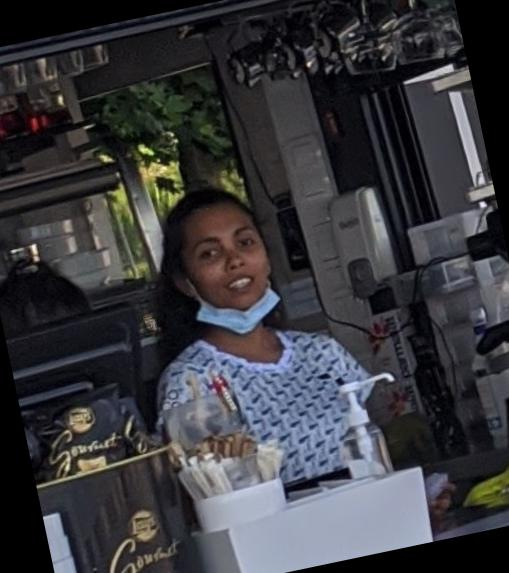mask_weared_incorrect: (185, 219, 283, 337)
